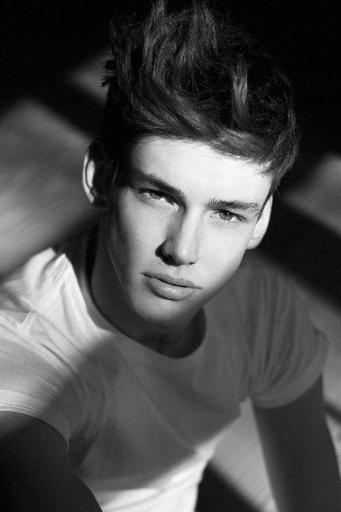left_eye: (207, 208, 248, 227)
left_lip_corner: (189, 281, 207, 295)
right_eye: (137, 187, 177, 206)
right_lip_corner: (136, 269, 158, 286)
